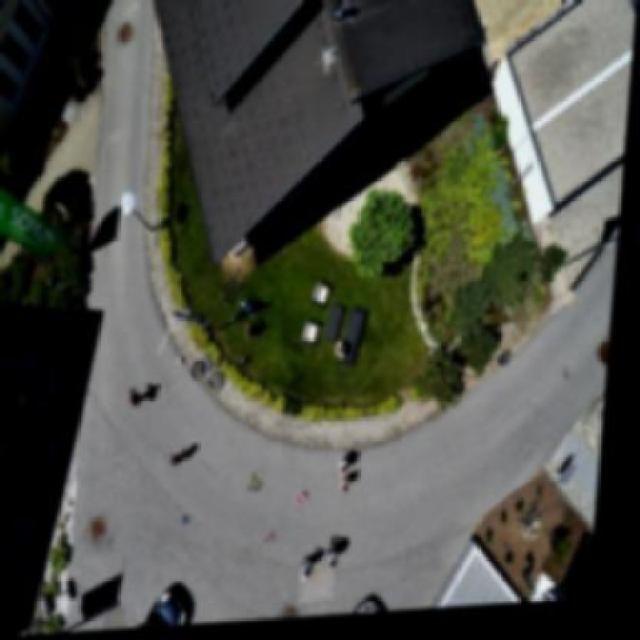Person: (304, 553, 338, 585), (130, 380, 153, 418), (334, 544, 358, 574), (344, 472, 371, 498), (339, 338, 359, 370), (343, 458, 366, 479)
